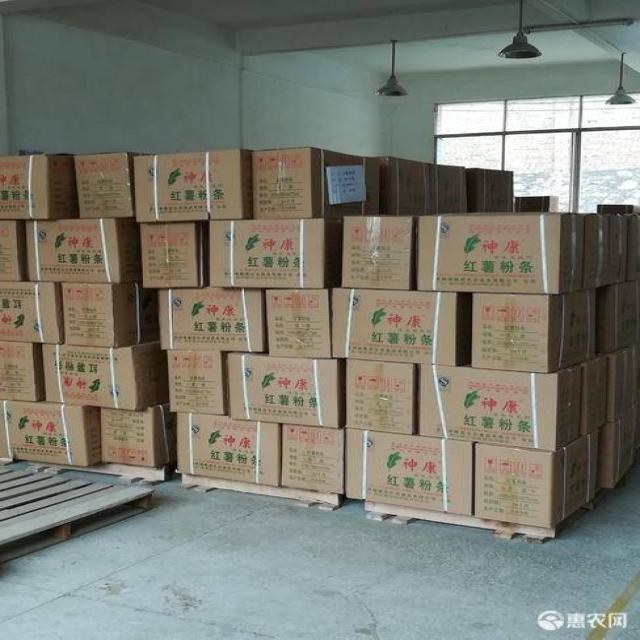box: (418, 364, 580, 452), (418, 213, 584, 294), (475, 432, 597, 528), (346, 428, 472, 516), (470, 289, 595, 373), (333, 287, 456, 365), (252, 147, 380, 219), (131, 149, 254, 223), (228, 352, 340, 430), (41, 341, 164, 411), (210, 219, 324, 288), (177, 413, 281, 486), (26, 219, 140, 283), (0, 400, 104, 468), (159, 288, 265, 352), (59, 283, 146, 348), (341, 217, 413, 290), (346, 359, 416, 434), (0, 154, 79, 220), (100, 403, 174, 467), (138, 221, 205, 288), (265, 289, 330, 358), (281, 423, 345, 493), (0, 282, 64, 345), (73, 151, 132, 219), (167, 351, 227, 416), (595, 408, 637, 488), (379, 157, 430, 216), (599, 282, 640, 352), (0, 341, 45, 402), (607, 344, 639, 423), (581, 212, 610, 291), (580, 355, 606, 435), (470, 168, 513, 214), (430, 164, 468, 216), (0, 221, 26, 281), (610, 212, 628, 285), (627, 213, 640, 283), (515, 195, 559, 212), (597, 205, 635, 213)
